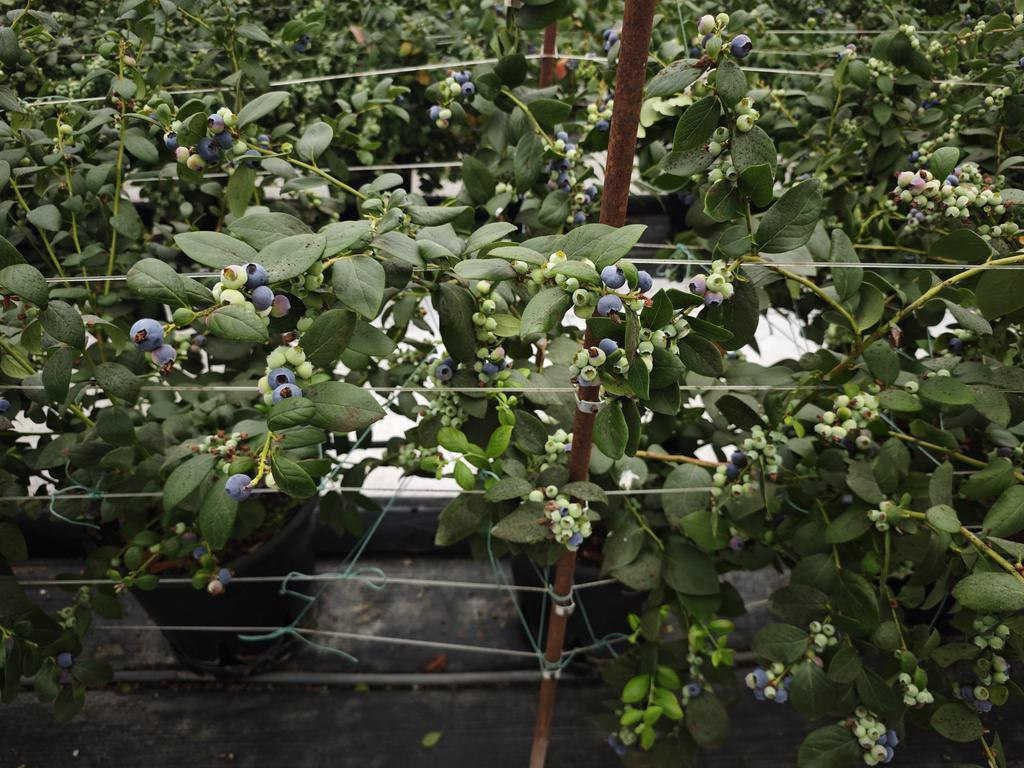RipeBlueBerry: (127, 318, 166, 349), (596, 291, 632, 321), (243, 263, 267, 286)
UnripeBlueBerry: (603, 261, 629, 287), (568, 283, 591, 310), (289, 346, 309, 362)
